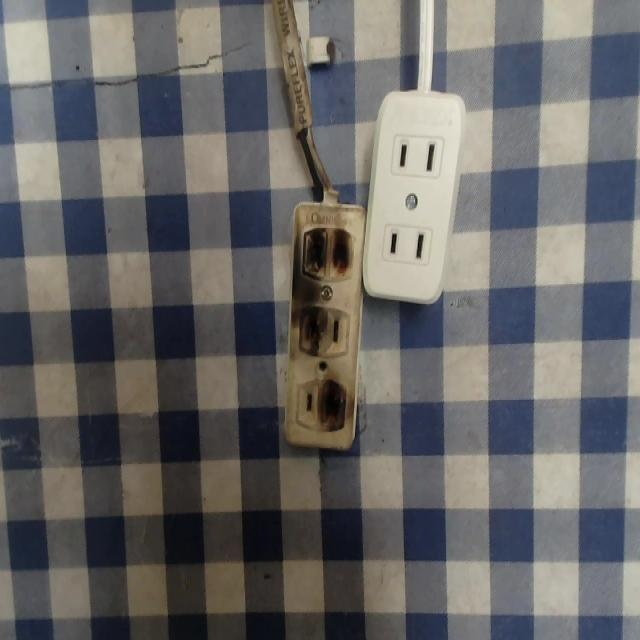-: (299, 221, 359, 283), (313, 372, 349, 435), (290, 305, 329, 356)
